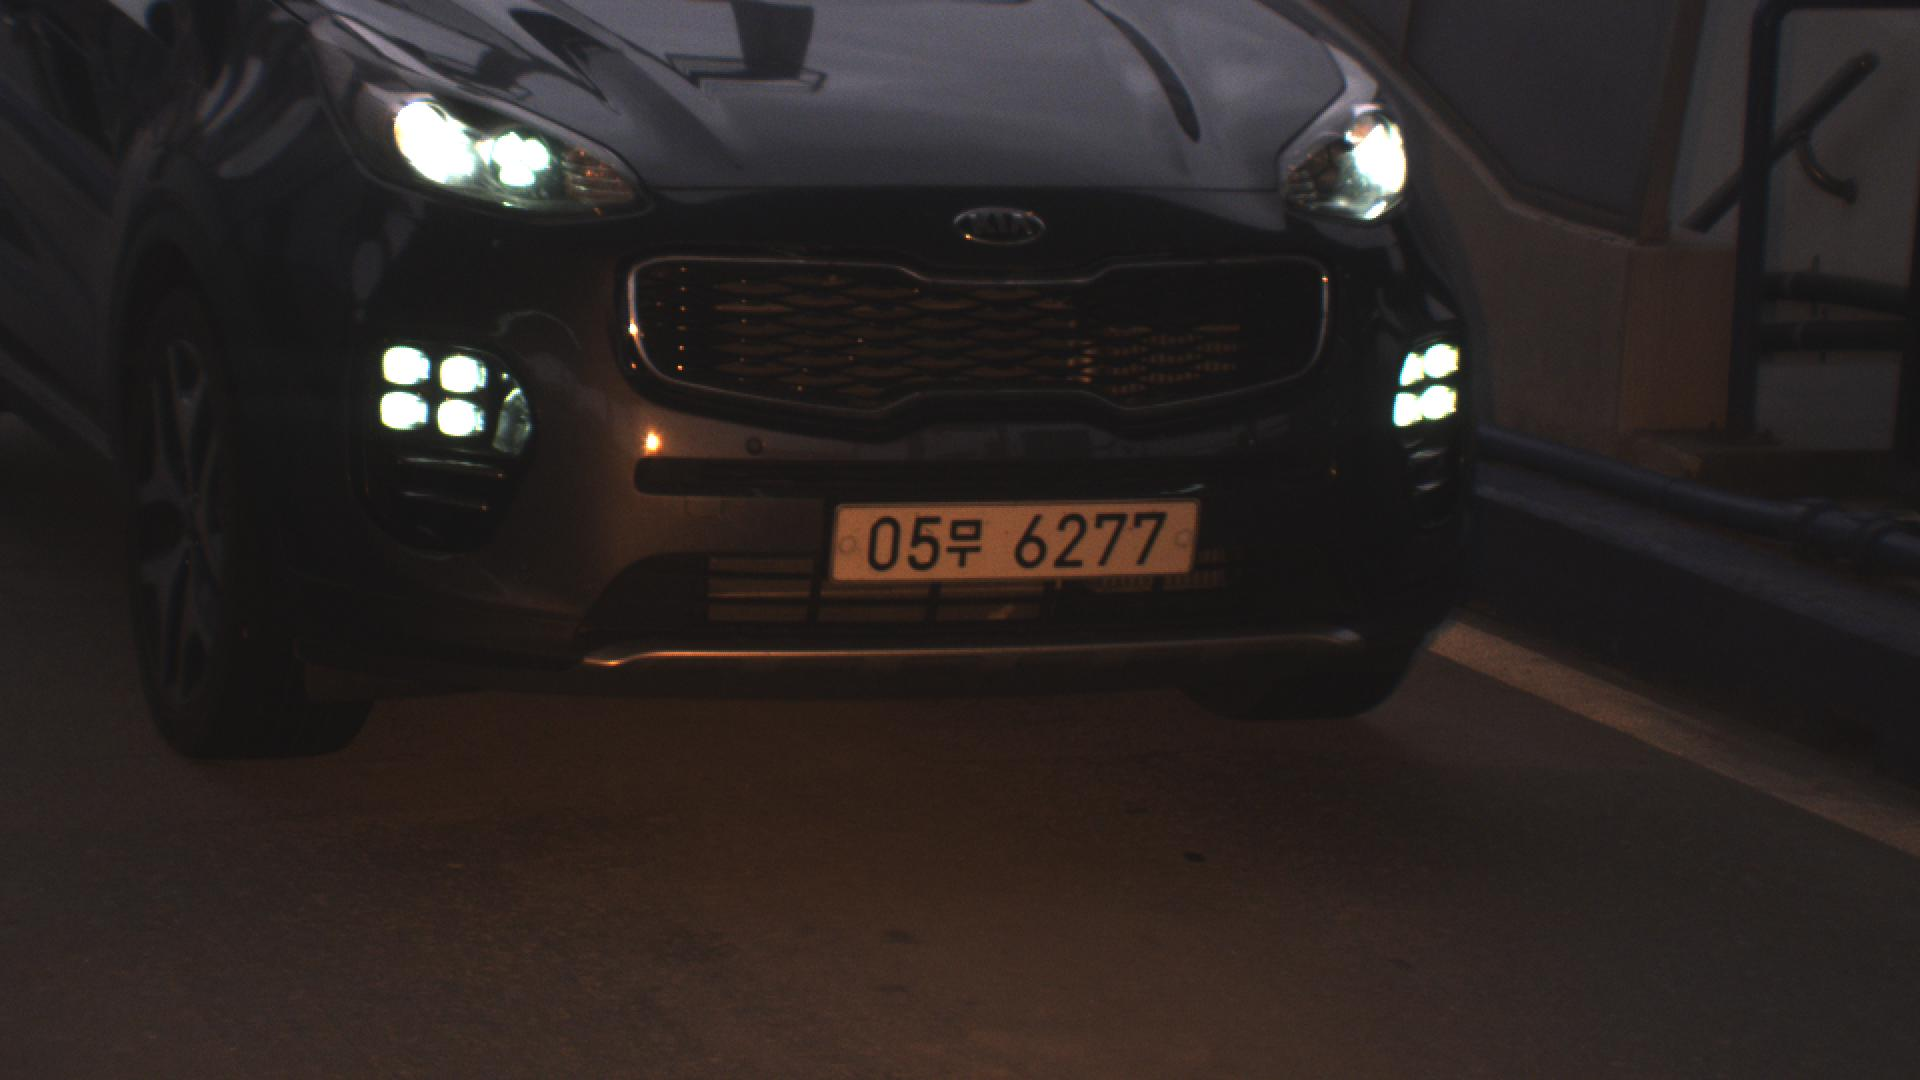car: (1, 1, 1489, 767)
plate: (831, 501, 1197, 581)
